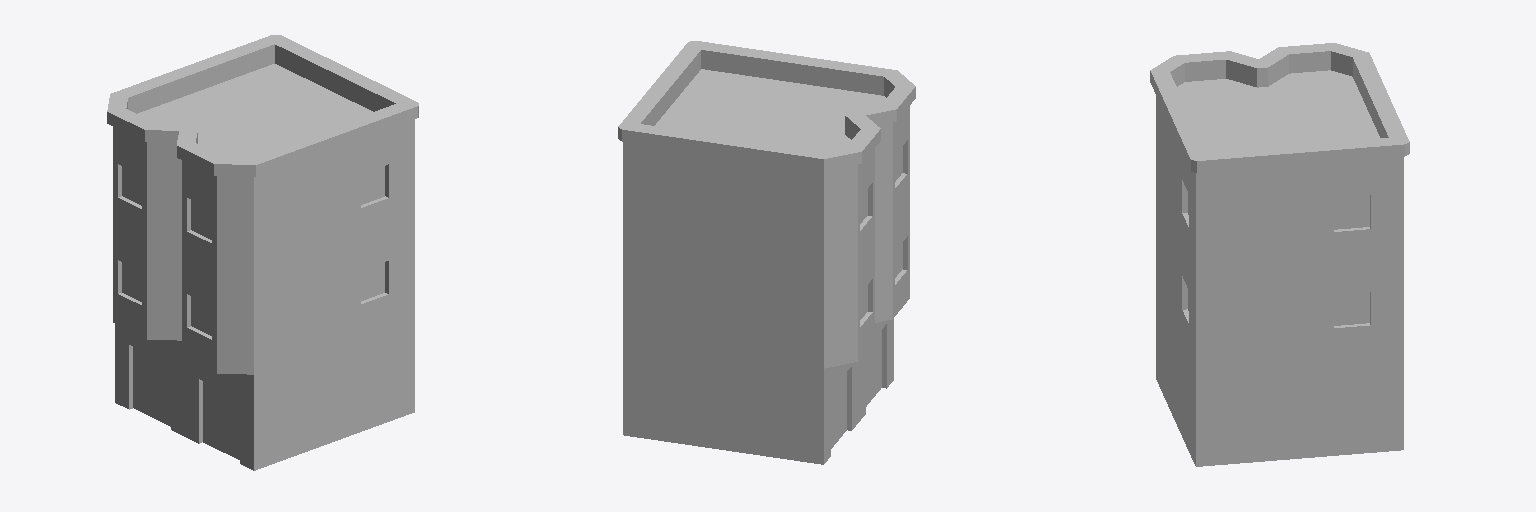
The model's file is variant_14.obj.
3 views of the same model, side by side, from view 1: azimuth 30°, elevation 25°; view 2: azimuth 150°, elevation 25°; view 3: azimuth 270°, elevation 25° (orthographic).
Visible parts, largest first — view 1: Building; view 2: Building; view 3: Building.
Part boxes in pixels (x1,y1,x2,y2): Building: (107, 35, 418, 470); Building: (618, 41, 915, 464); Building: (1150, 43, 1409, 466).
Size of the model in its own units: 1.06 by 1.28 by 0.9766.